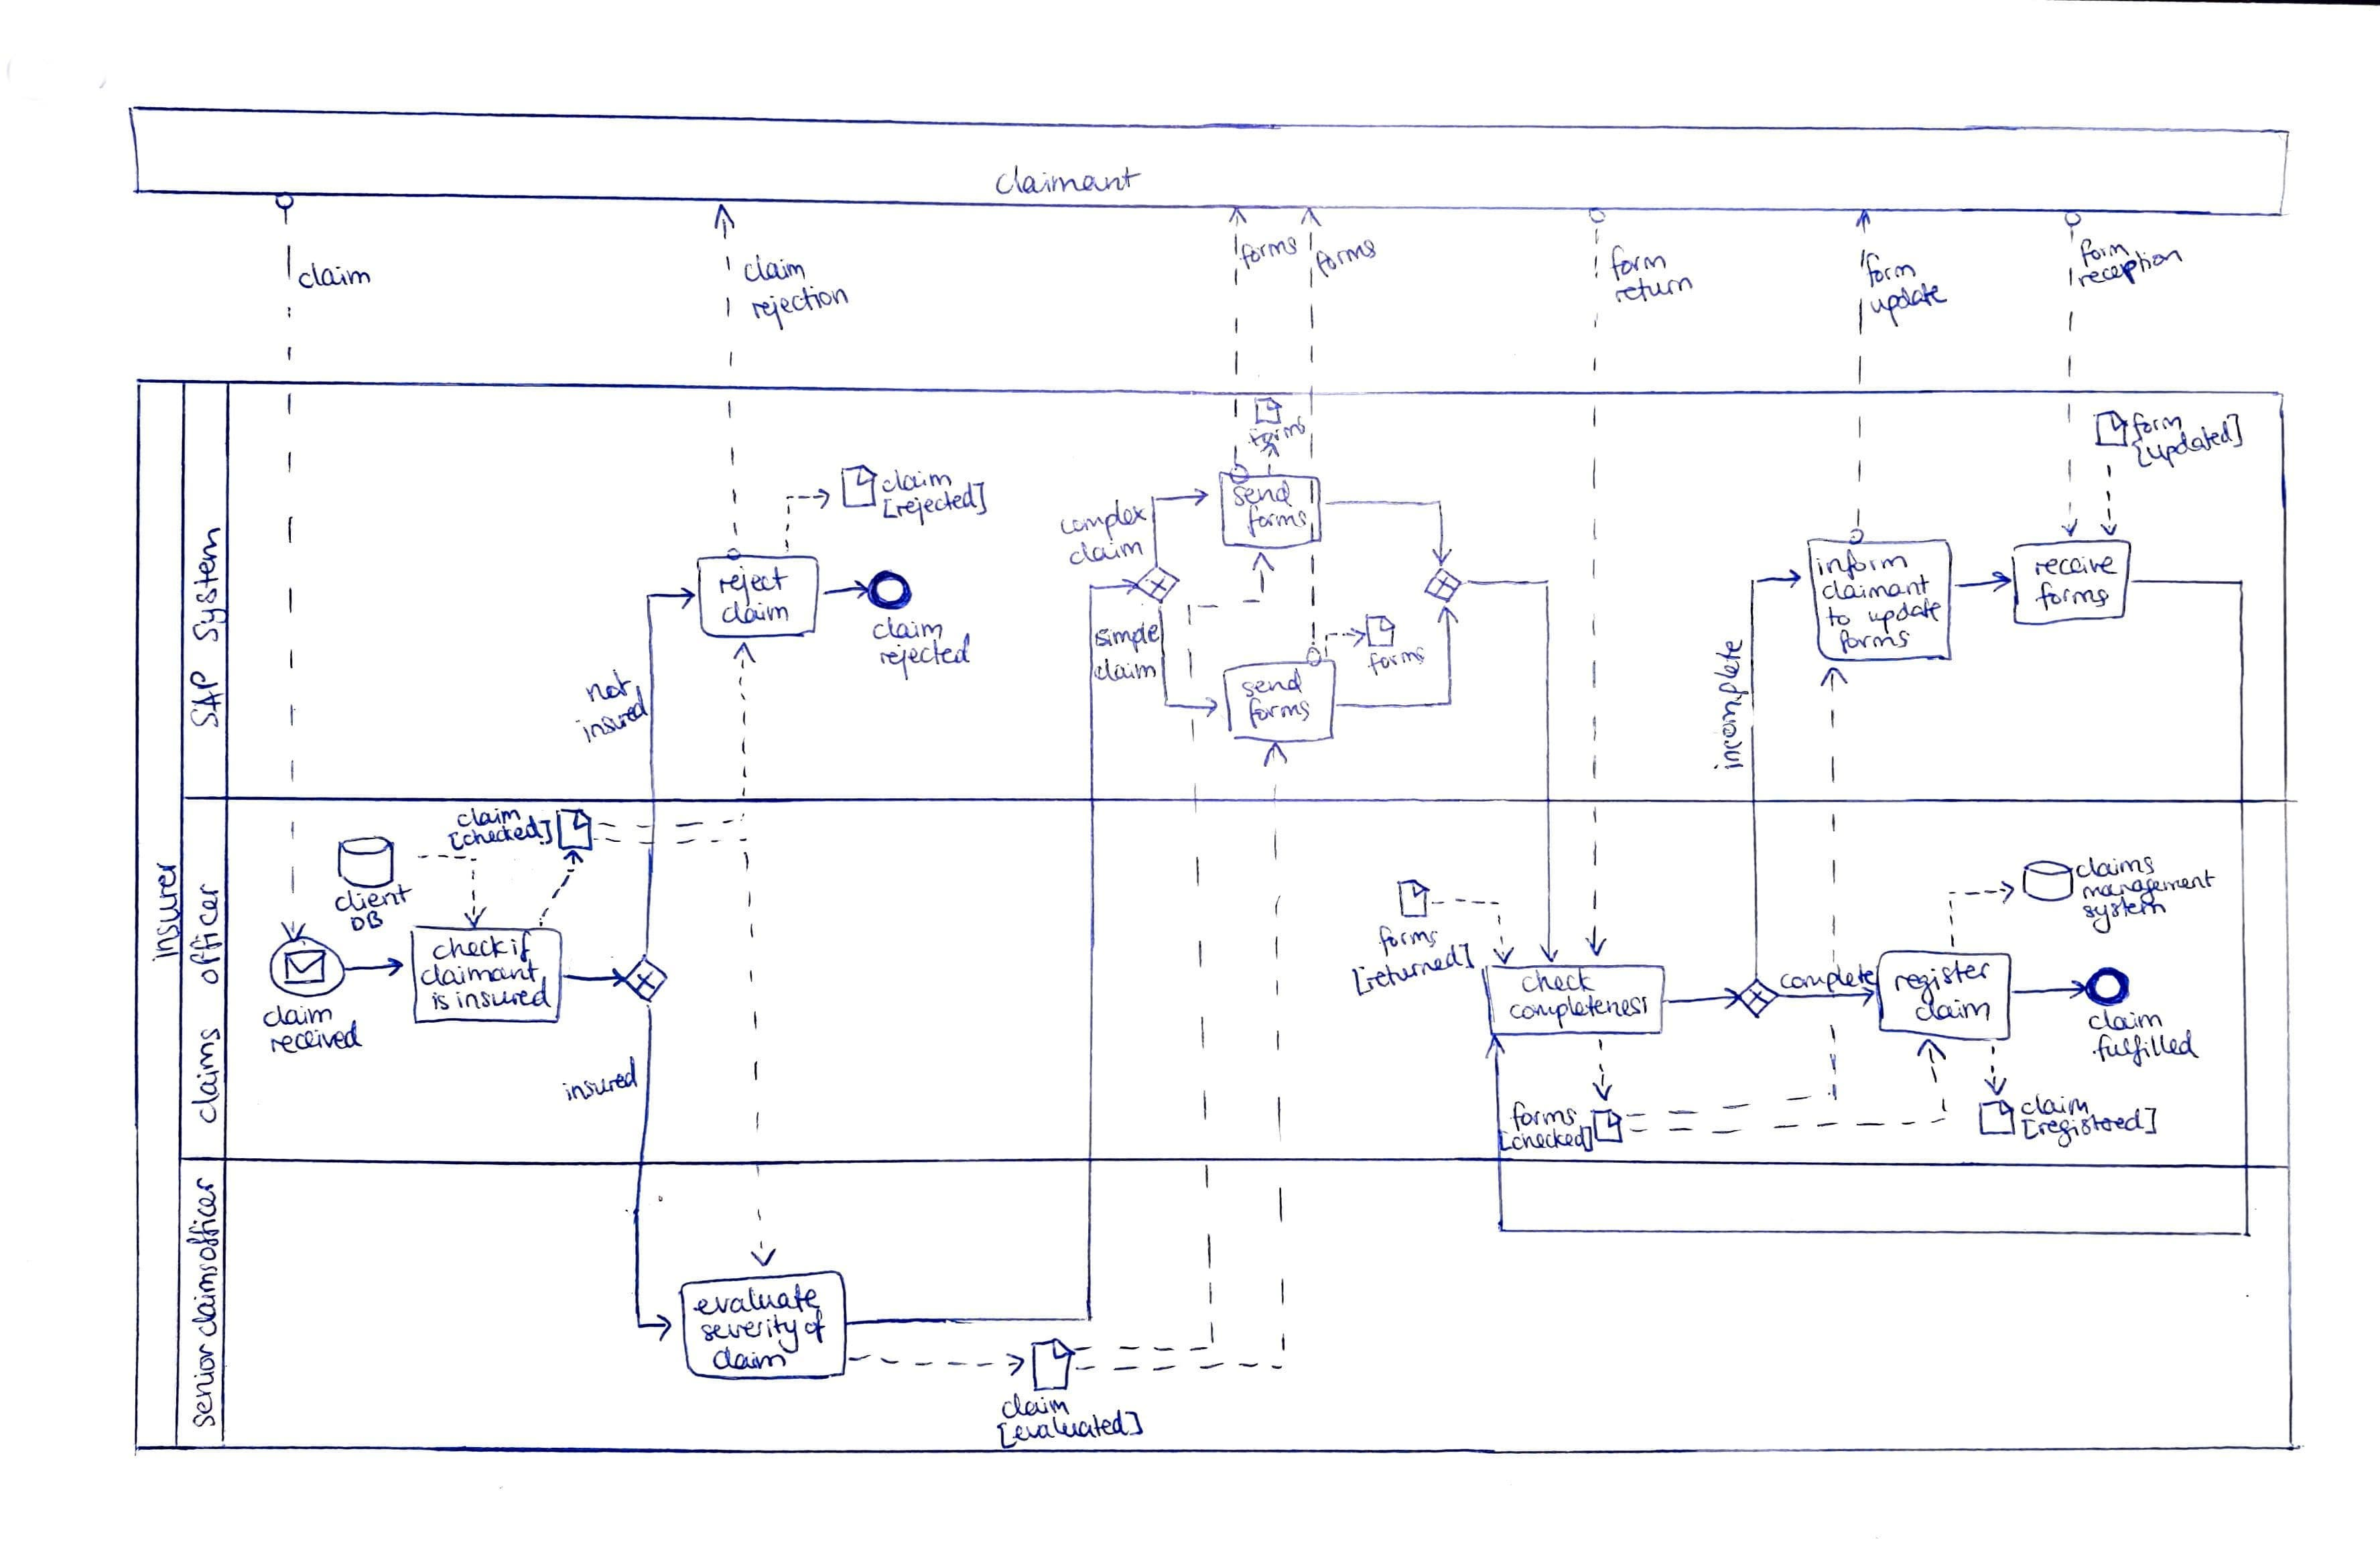DB: (354, 909, 392, 932)
SAP: (187, 670, 224, 731)
System: (189, 528, 229, 646)
[checked]: (444, 830, 557, 861), (1497, 1128, 1592, 1152)
[evaluated]: (991, 1411, 1143, 1444)
[registered]: (2021, 1107, 2163, 1144)
[rejected]: (883, 484, 985, 517)
[returned]: (1350, 961, 1473, 996)
[updated]: (2123, 443, 2248, 477)
check: (434, 935, 501, 963), (1523, 970, 1594, 994)
claim: (1067, 536, 1148, 569), (295, 262, 376, 295), (739, 252, 810, 285), (876, 465, 958, 493), (722, 597, 793, 628), (711, 1345, 791, 1373), (1915, 998, 1995, 1024), (262, 1005, 338, 1031), (2089, 1010, 2170, 1034), (1091, 656, 1161, 682), (869, 618, 949, 640), (1001, 1394, 1070, 1418), (2017, 1093, 2092, 1116), (456, 804, 524, 826)
claimant: (996, 161, 1141, 200), (418, 958, 541, 989), (1821, 574, 1932, 602)
claims: (189, 1026, 224, 1125), (2075, 852, 2156, 883), (187, 1267, 222, 1340)
client: (337, 885, 415, 909)
complete: (1775, 967, 1875, 989)
completeness: (1509, 996, 1650, 1022)
complex: (1058, 496, 1148, 538)
evaluate: (696, 1283, 822, 1314)
form: (1608, 245, 1671, 281), (1865, 250, 1915, 286), (2130, 406, 2182, 439), (2076, 233, 2127, 266)
forms: (1313, 234, 1381, 283), (1242, 696, 1313, 729), (1246, 420, 1310, 453), (2037, 583, 2109, 611), (1835, 628, 1912, 654), (1240, 234, 1298, 269), (1242, 508, 1310, 536), (1376, 922, 1438, 951), (1509, 1102, 1577, 1128), (1367, 647, 1429, 675)
fulfilled: (2092, 1031, 2203, 1067)
if: (507, 934, 533, 960)
incomplete: (1714, 637, 1749, 774)
inform: (1814, 547, 1908, 580)
insured: (553, 1071, 642, 1104), (451, 982, 552, 1010), (569, 717, 649, 748)
insurer: (151, 861, 184, 967)
is: (428, 989, 449, 1012)
management: (2082, 876, 2215, 908)
not: (583, 666, 633, 705)
of: (801, 1312, 827, 1340)
officer: (193, 883, 227, 986), (186, 1175, 222, 1262)
receive: (2031, 554, 2118, 581)
received: (265, 1026, 363, 1059)
reception: (2076, 269, 2181, 300)
register: (1891, 963, 1991, 993)
reject: (716, 568, 788, 597)
rejected: (873, 633, 977, 677)
rejection: (744, 279, 852, 326)
return: (1613, 276, 1693, 307)
send: (1240, 668, 1304, 699), (1230, 481, 1296, 510)
senior: (189, 1345, 222, 1428)
severity: (701, 1314, 798, 1345)
simple: (1093, 618, 1159, 651)
system: (2082, 892, 2167, 925)
to: (1827, 604, 1854, 632)
update: (1867, 286, 1948, 326), (1867, 597, 1941, 630)
